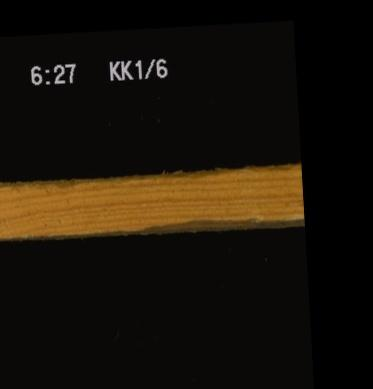wave: (126, 213, 288, 229)
